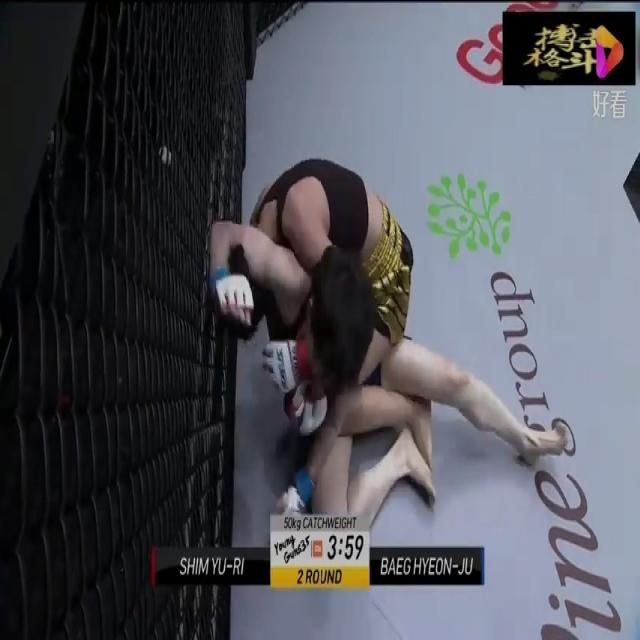fight: (201, 148, 554, 529)
